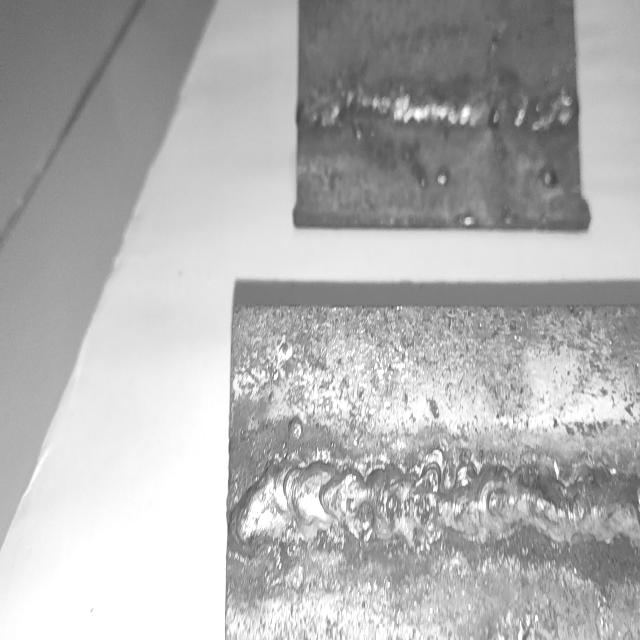Bad Weld: (302, 80, 577, 132)
Defect: (476, 73, 571, 136), (299, 89, 397, 129)
Good Weld: (238, 451, 634, 555)
